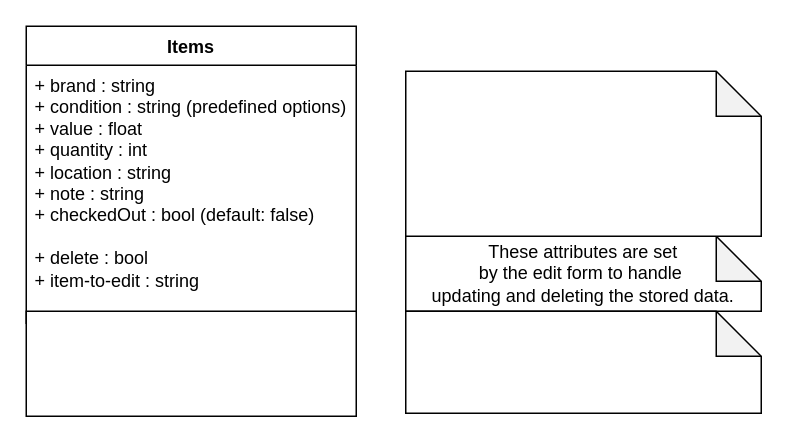
The diagram is 788 pixels wide and 443 high, and some of its shapes have lost their labels. The shapes that lost their labels are listed below. From the top down, each one's centre as x and y in pixels, then its label:
At point 582,153: "These attributes are set on item creation by the add form.".
At point 582,361: "No specific class methods; functionality is called on the database itself.".
